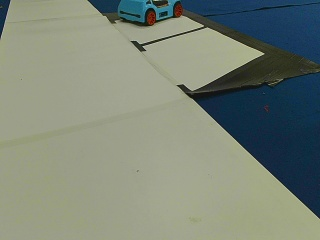car: (119, 0, 182, 24)
